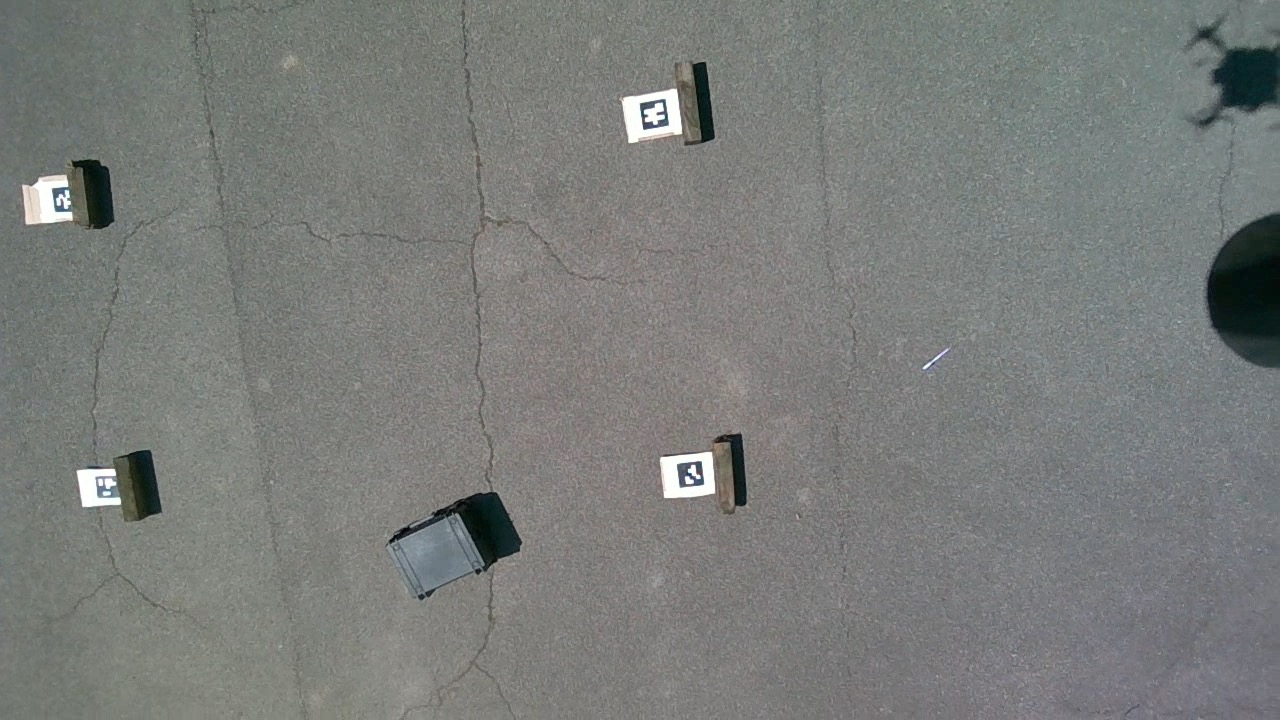probes: (921, 348, 950, 371)
rako: (386, 492, 521, 599)
